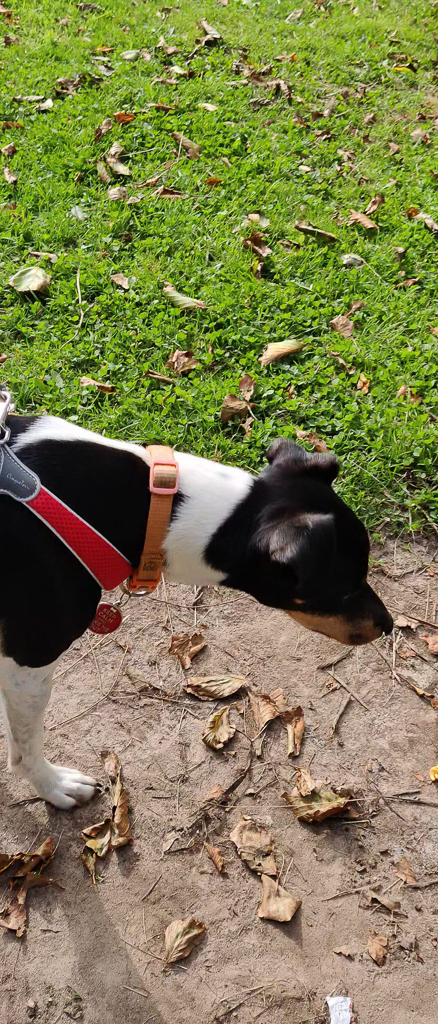Dog: (0, 373, 405, 826)
